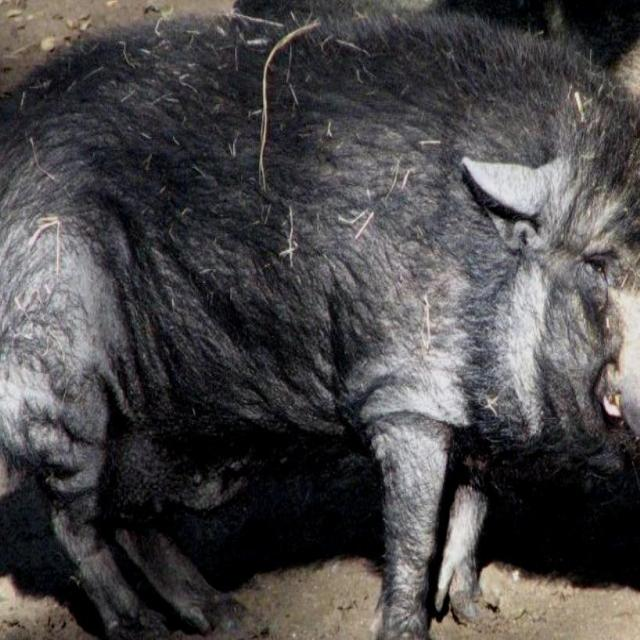pig: (0, 5, 640, 638)
